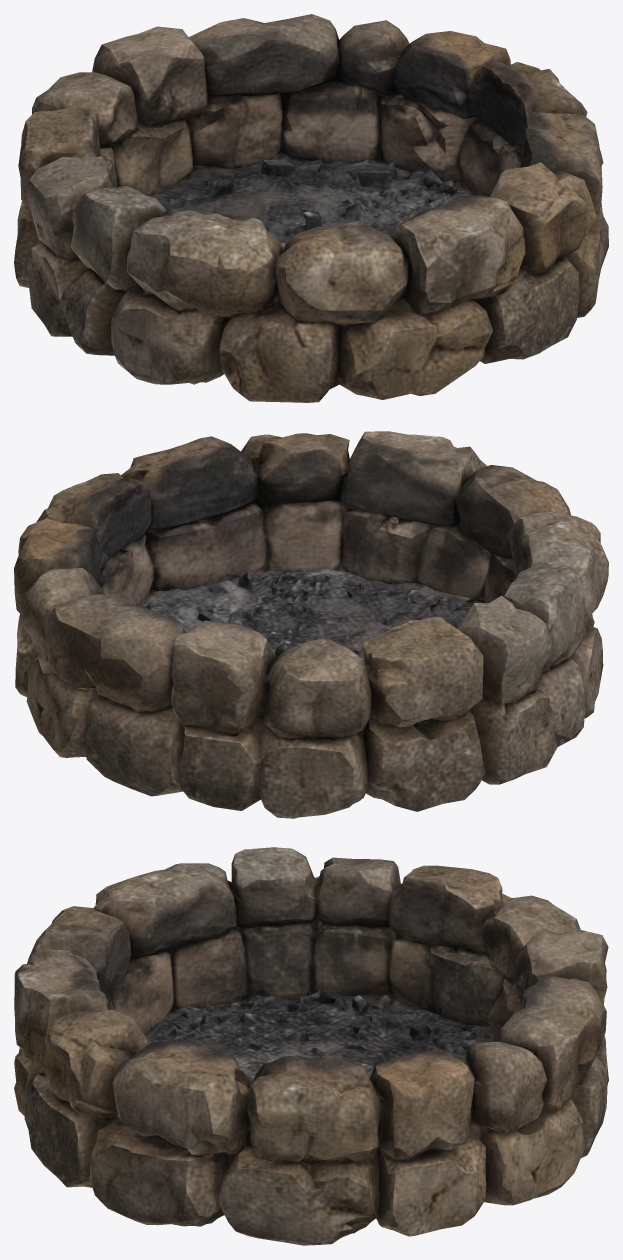
3 renders of one model, top to bottom at view 1: azimuth 30°, elevation 25°; view 2: azimuth 150°, elevation 25°; view 3: azimuth 270°, elevation 25°, orthographic.
Visible parts, largest first — view 1: world; view 2: world; view 3: world.
Part boxes in pixels (box(x1,y1,x2,y2)): world: box(14, 14, 608, 402); world: box(14, 431, 608, 818); world: box(14, 847, 608, 1245).
Size of the model in its own units: 0.9 by 0.2841 by 0.8988.
Materials: 1 (1 with a texture image).
